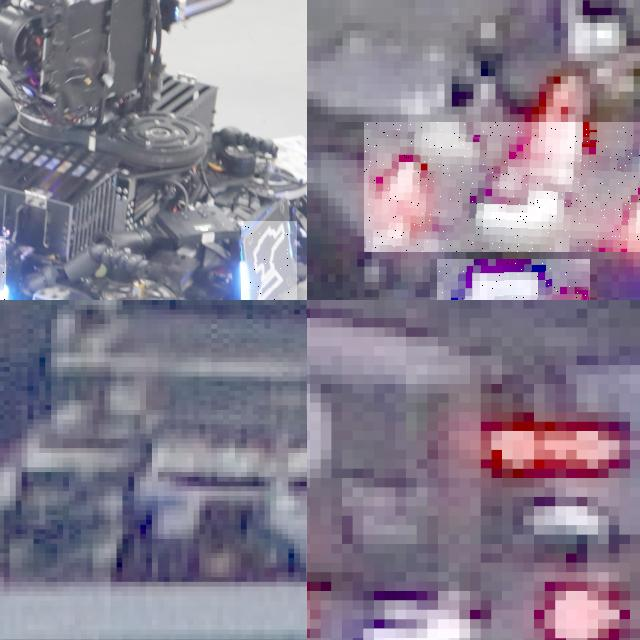Bs: (240, 221, 297, 300)
R5: (364, 122, 640, 251), (437, 259, 589, 300)
